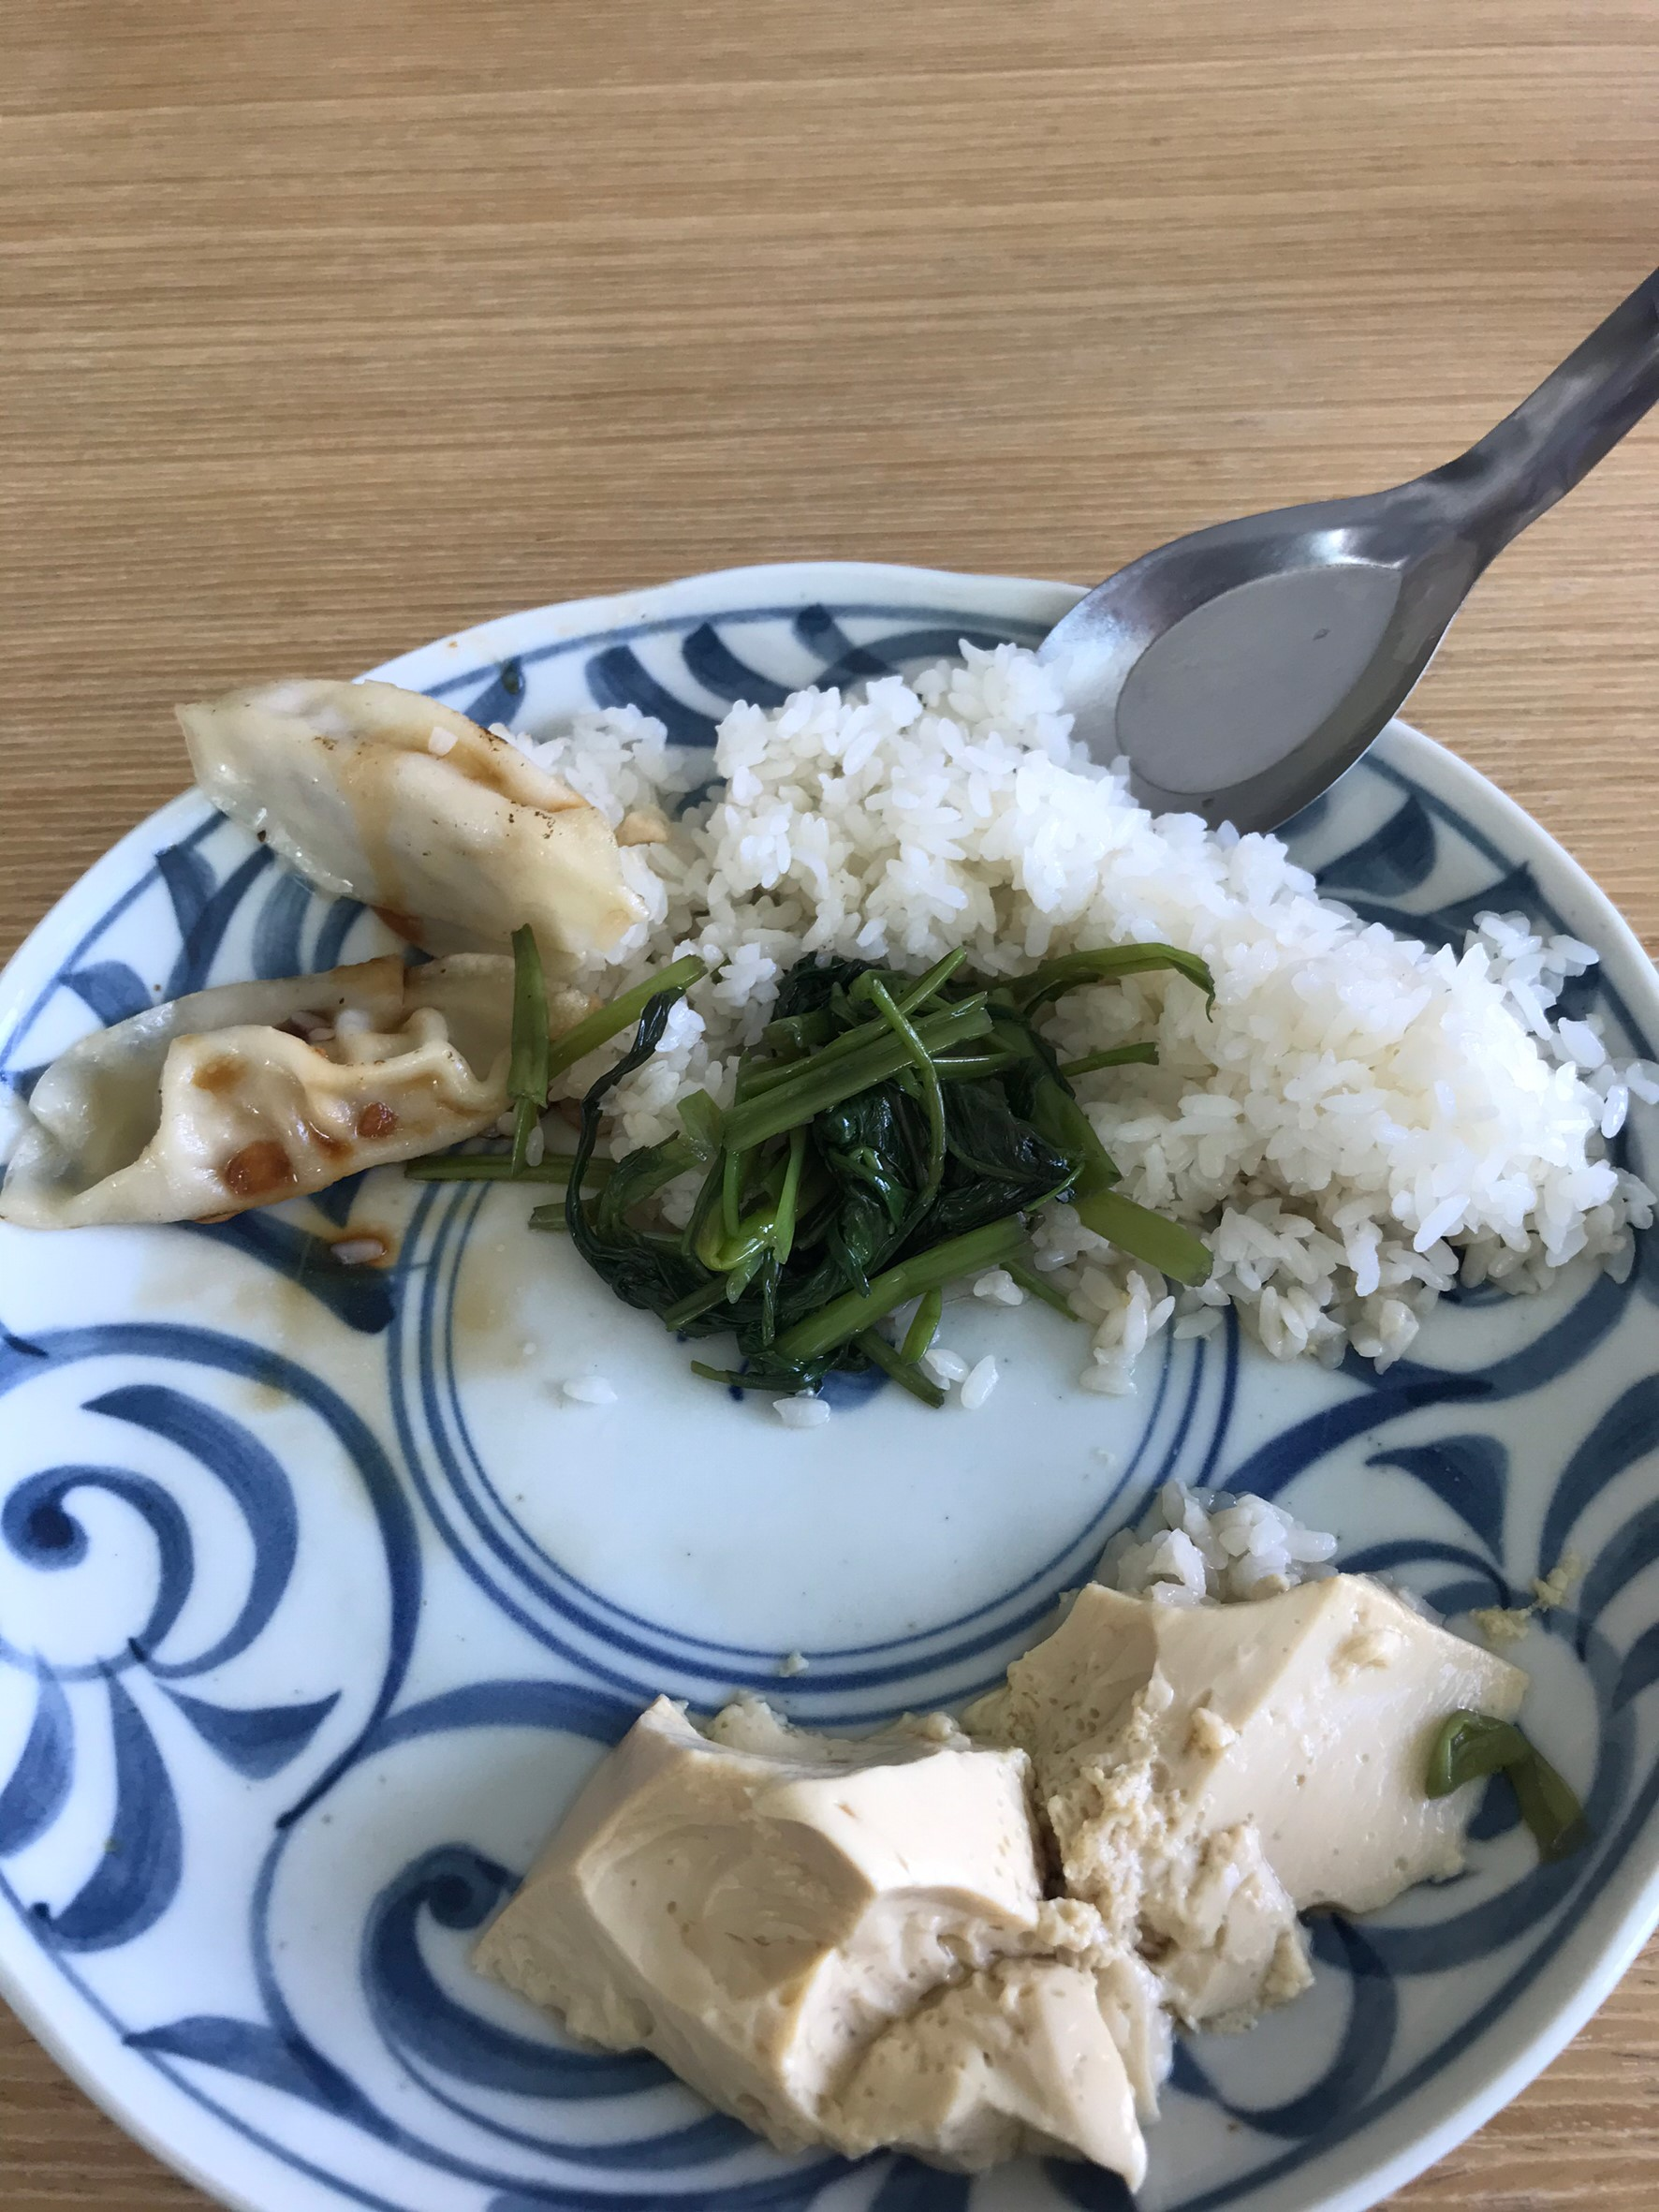fried_dumplings: (2, 669, 659, 1253)
rice: (734, 689, 1633, 1184)
water_spinach: (652, 997, 1044, 1415)
